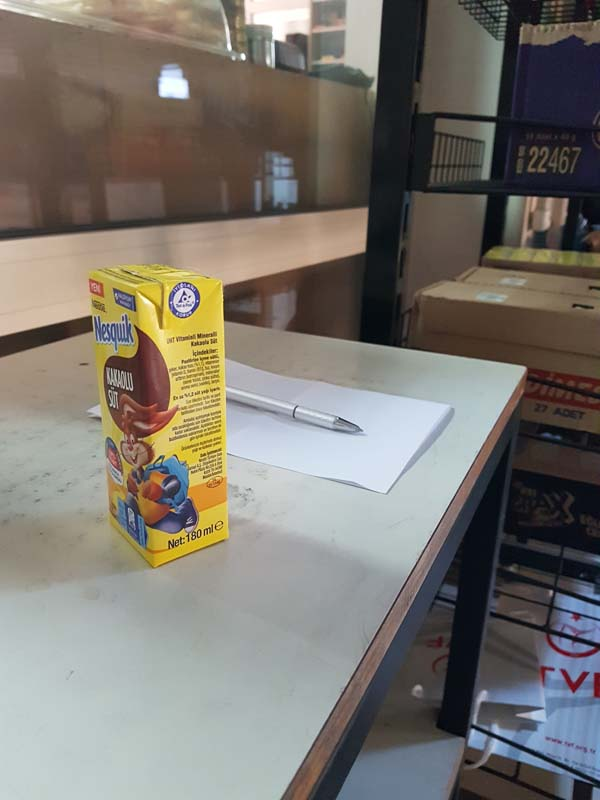nesquick200ml: (91, 265, 237, 567)
